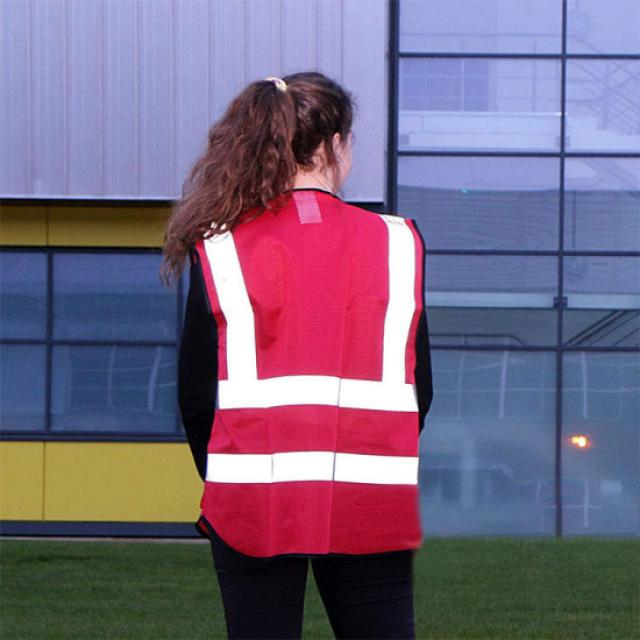vest: (191, 189, 431, 567)
